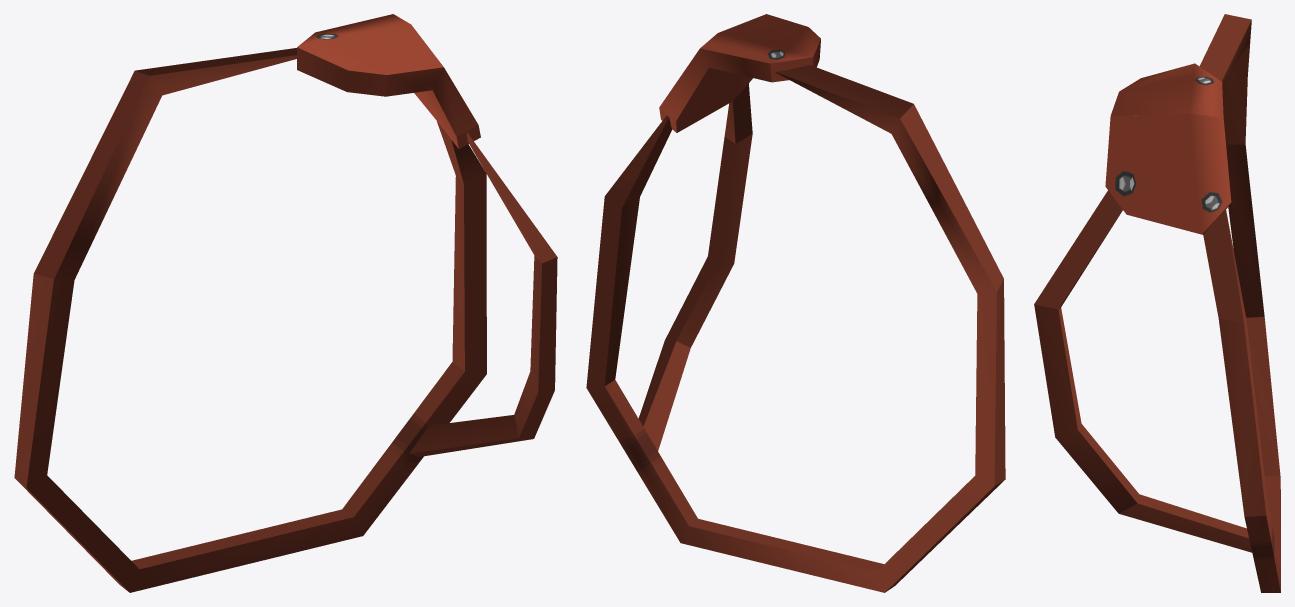
Rendered from Eyepatch_L.glb.
3 views of the same model, side by side, from view 1: azimuth 30°, elevation 25°; view 2: azimuth 150°, elevation 25°; view 3: azimuth 270°, elevation 25° (orthographic). The views are drawn at different scales.
Parts seen in each view (by area): view 1: Eyepatch_L; view 2: Eyepatch_L; view 3: Eyepatch_L.
Boxes of the visible parts, bbox=[...] form: Eyepatch_L: bbox=[14, 14, 557, 592]; Eyepatch_L: bbox=[586, 14, 1005, 592]; Eyepatch_L: bbox=[1034, 14, 1280, 592].
Size of the model in its own units: 0.2395 by 0.2681 by 0.1237.
Materials: 1 (1 with a texture image).
